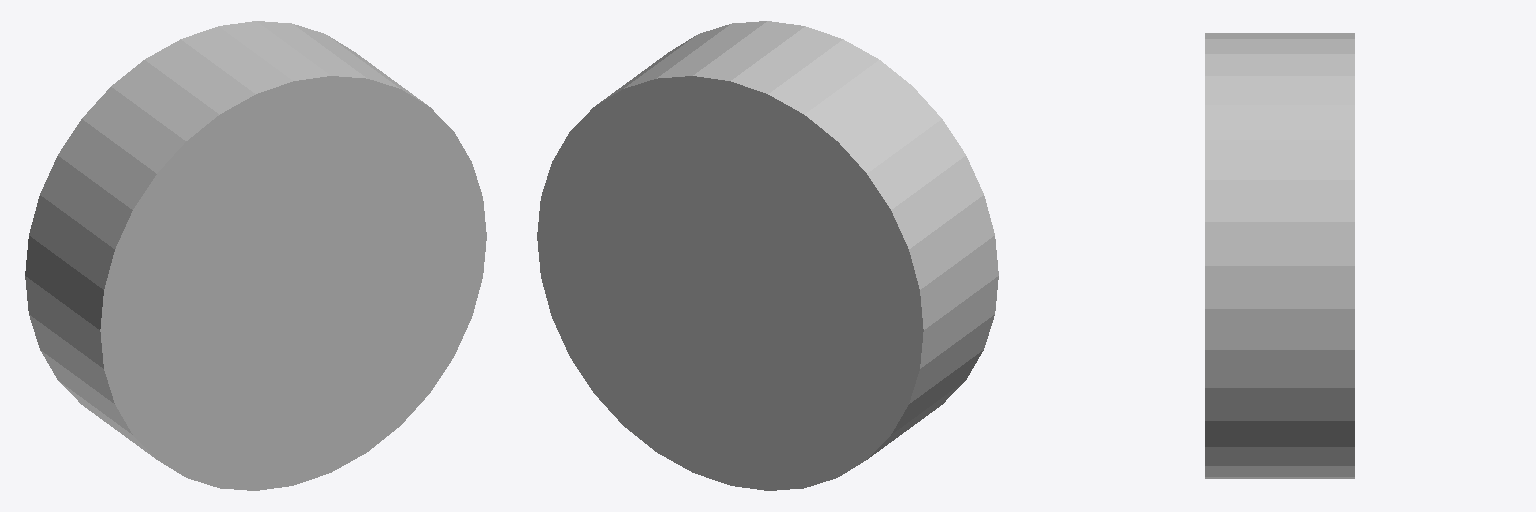
File: BattleshipJoint.obj
3 renders of one model, left to right at view 1: azimuth 30°, elevation 25°; view 2: azimuth 150°, elevation 25°; view 3: azimuth 270°, elevation 25°, orthographic.
Visible parts, largest first — view 1: Cylinder_Cylinder.002; view 2: Cylinder_Cylinder.002; view 3: Cylinder_Cylinder.002.
Boxes of the visible parts, x1=… form: Cylinder_Cylinder.002: x1=25, y1=21, x2=486, y2=490; Cylinder_Cylinder.002: x1=537, y1=21, x2=998, y2=490; Cylinder_Cylinder.002: x1=1205, y1=33, x2=1354, y2=478.
Bounding box in the file's own units: 2 × 2 × 0.6742.